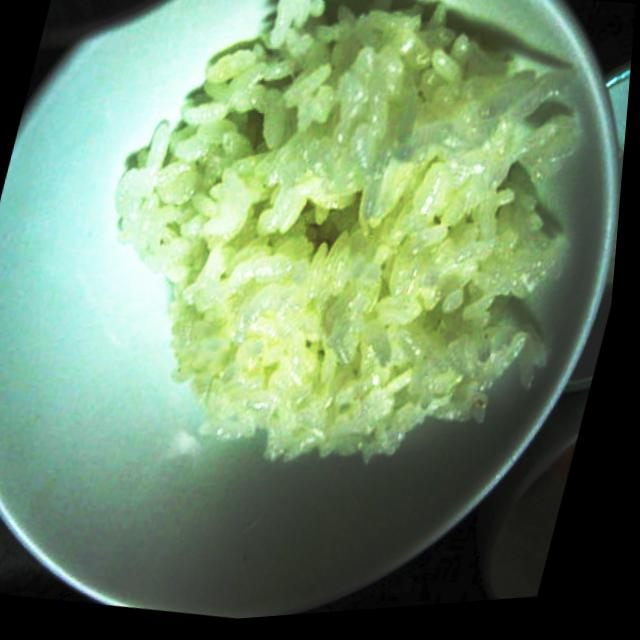rice: (44, 0, 640, 520)
